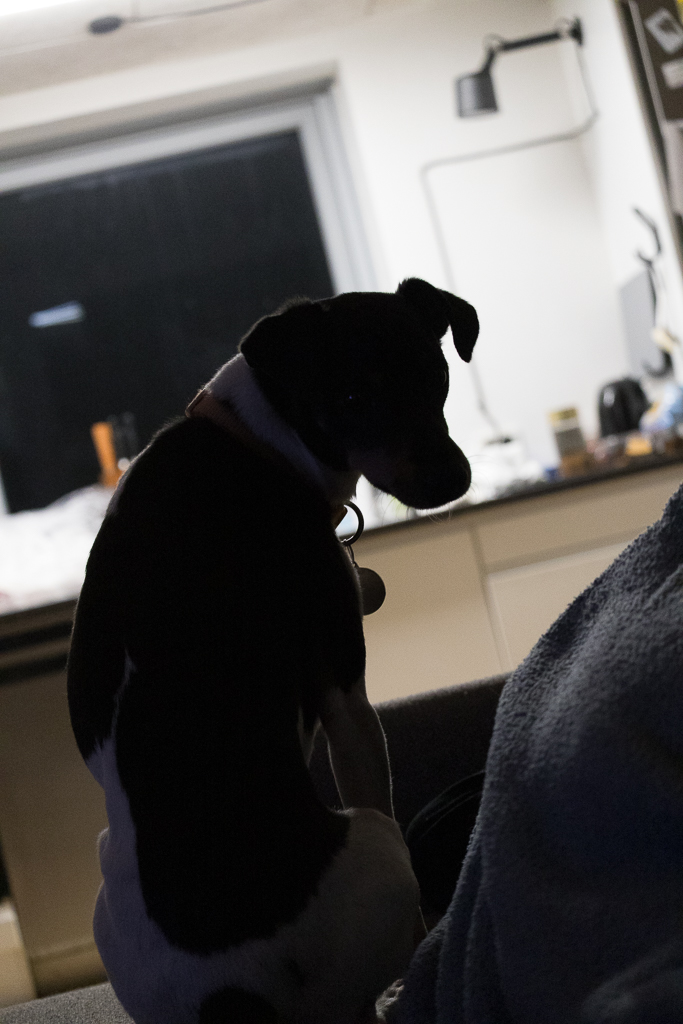Dog: (54, 268, 487, 1024)
